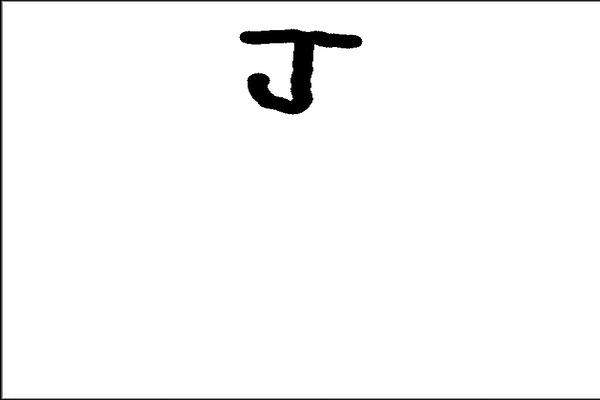J: (232, 21, 366, 117)
